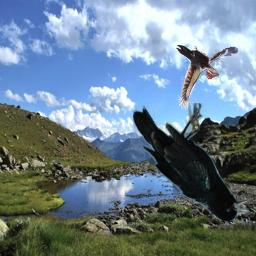Crow: (133, 103, 249, 221)
Woodpecker: (176, 45, 238, 111)
